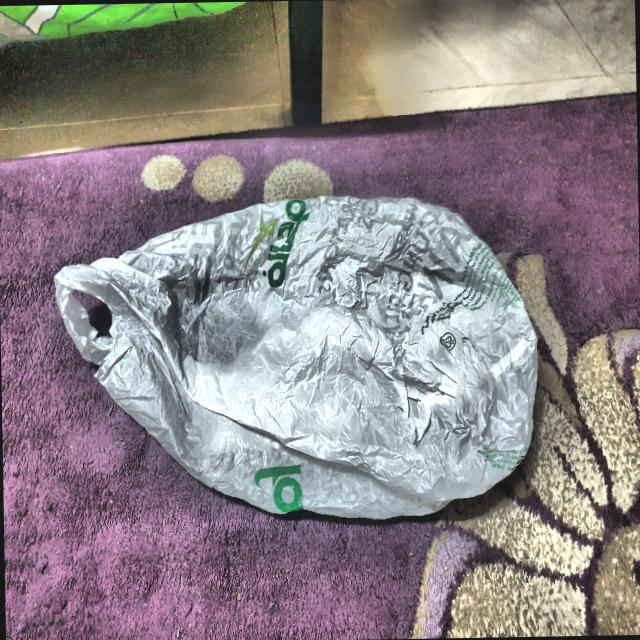plastic bag: (43, 180, 548, 530)
